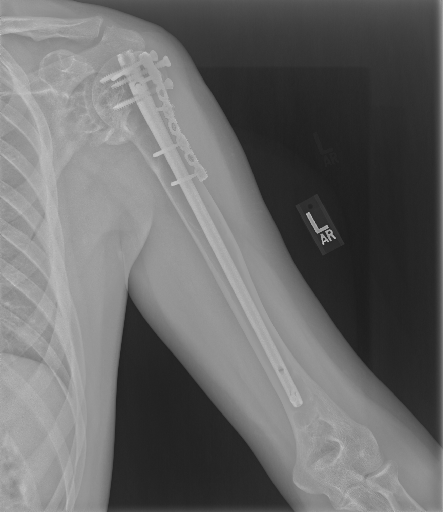implant: (103, 44, 209, 195)
